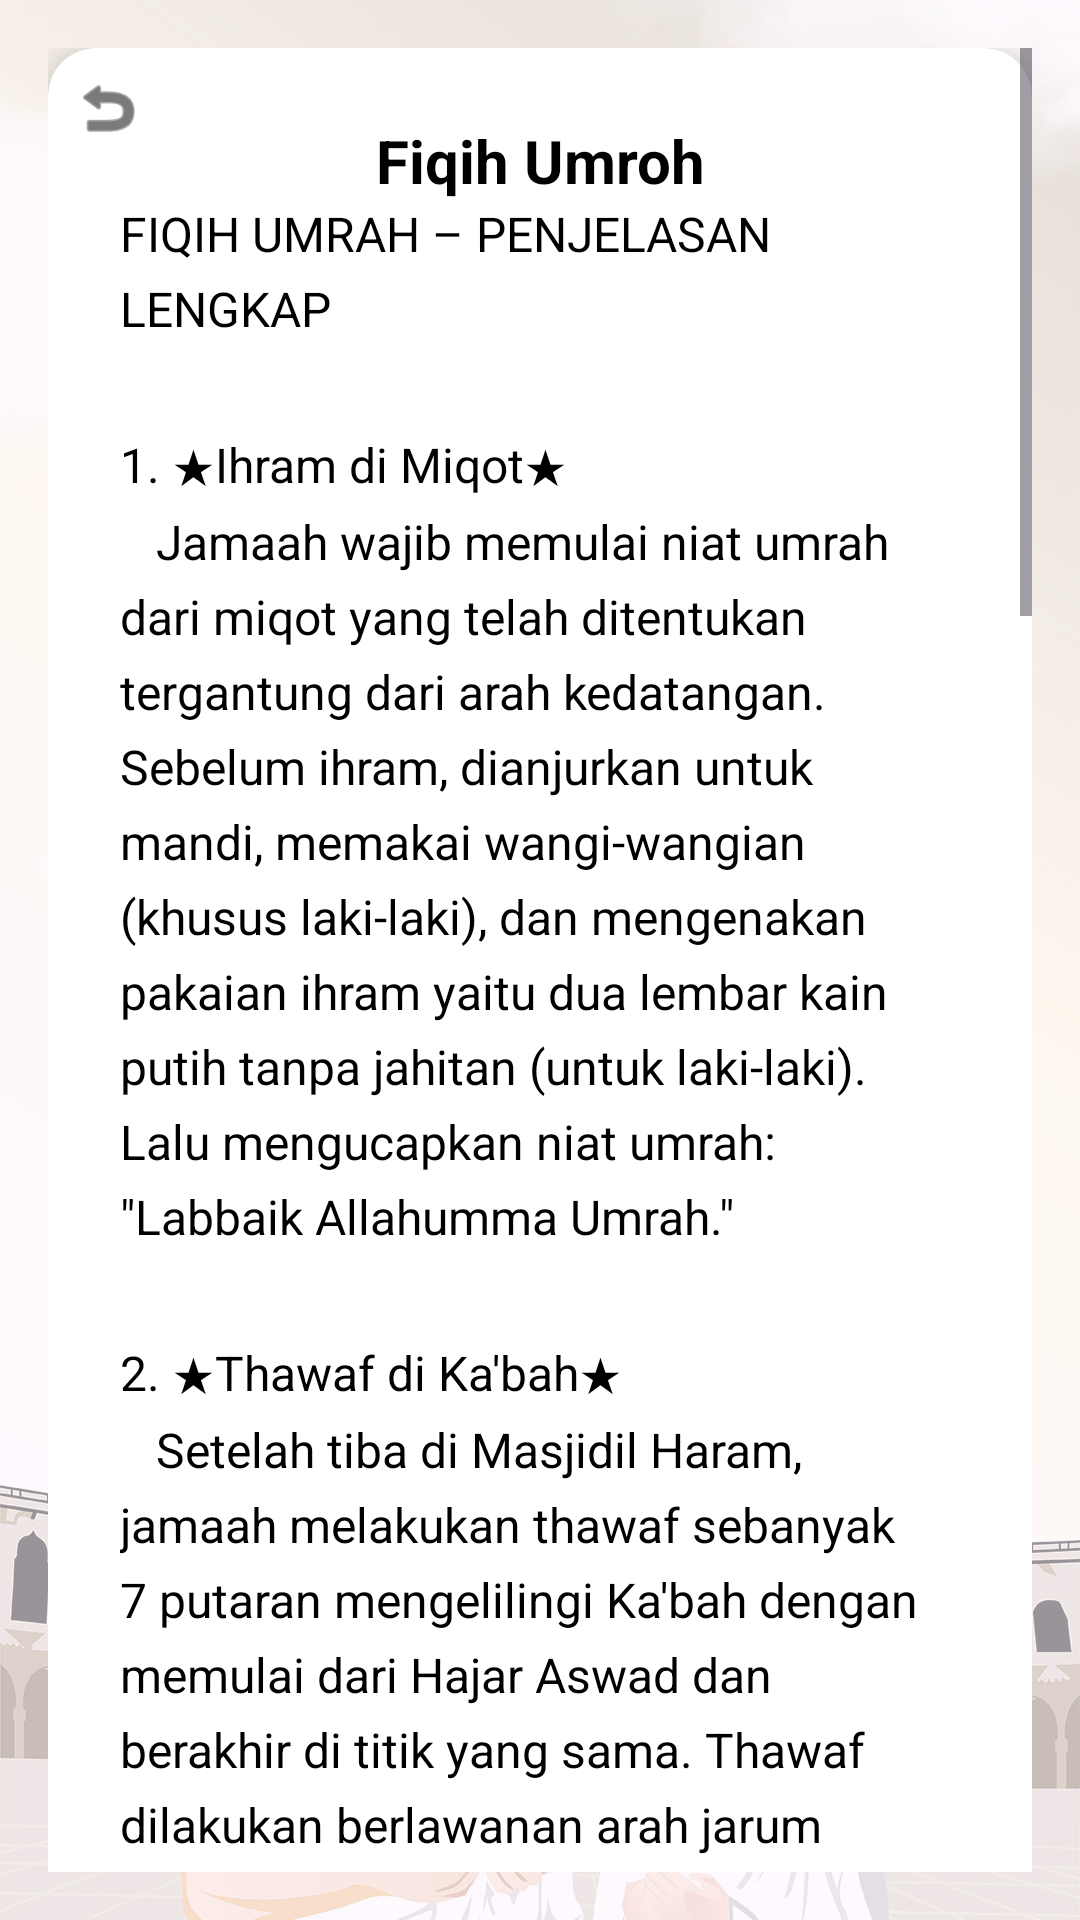

Icons on this 1080px x 1920px Android screen, each with the point to tap as (x=x, y=y):
Kembali: (x=91, y=90)
